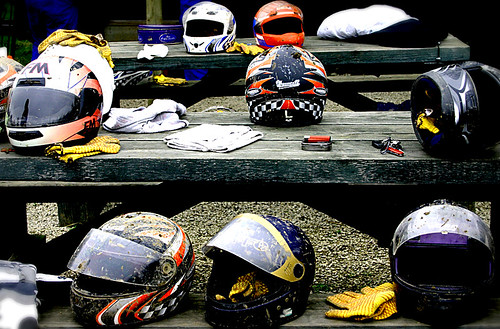helmet: (62, 200, 195, 322), (387, 204, 496, 323), (202, 208, 314, 323), (8, 62, 103, 154), (411, 60, 497, 153), (244, 54, 333, 123), (179, 2, 233, 48), (251, 5, 304, 44)
